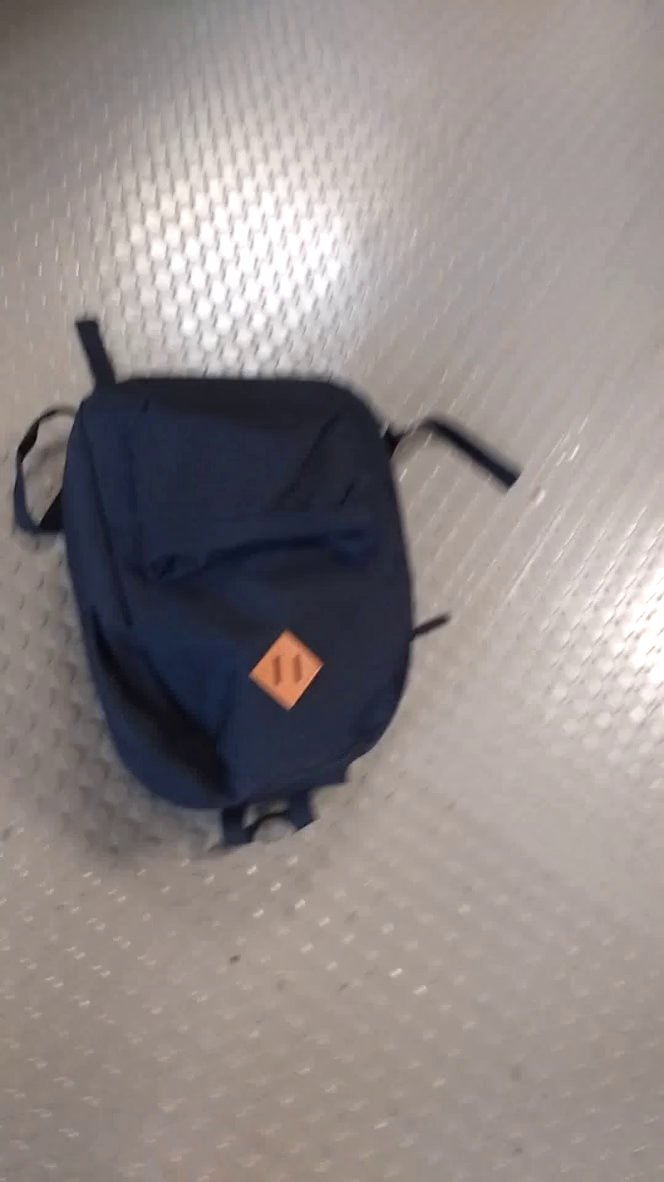bag: (9, 309, 525, 856)
